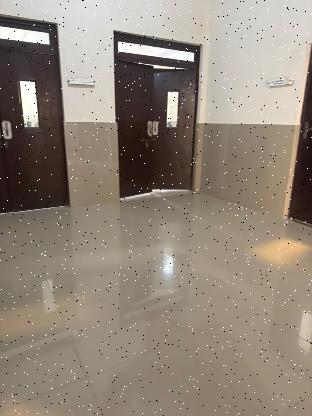door: (113, 27, 206, 199), (0, 10, 74, 220)
